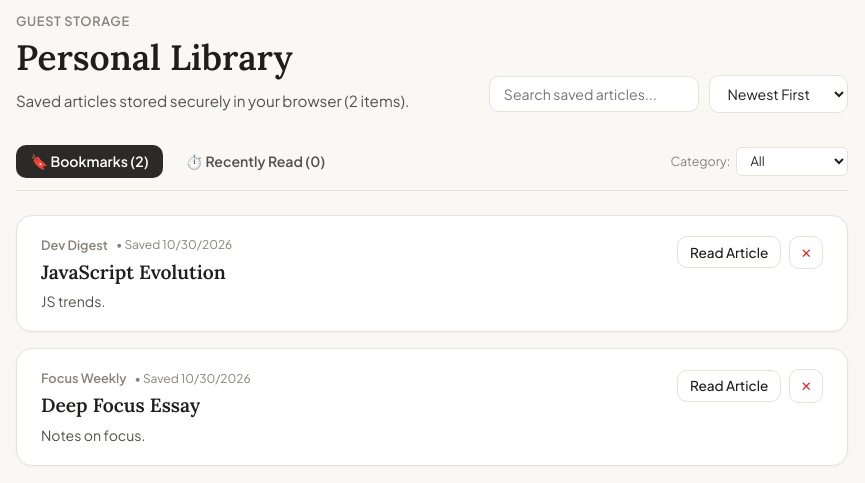
Test: LibraryView › renders saved bookmarks and filters by search query
Expected: the heading "Deep Focus Essay" is shown, [41,393,200,417]
Expected: the heading "JavaScript Evolution" is shown, [41,260,226,284]
# Test search filter
Type "Focus" into the field with placeholder "Search saved articles..." at [594, 94], box [489,76,699,112]
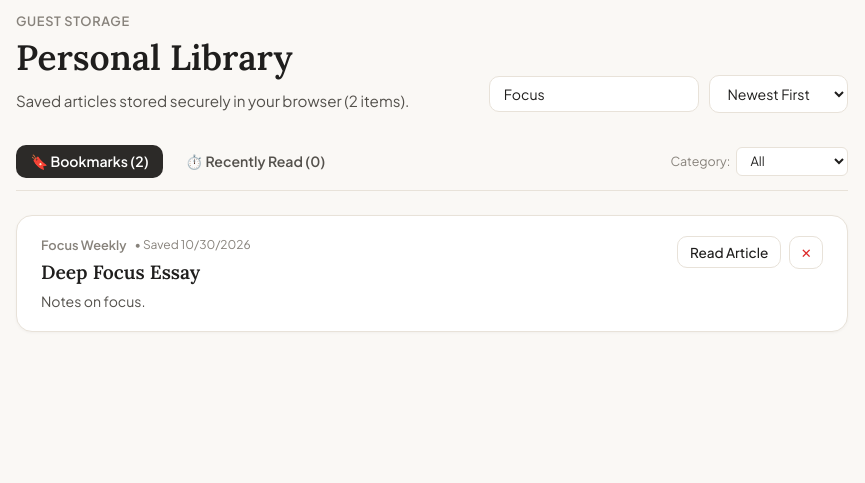
Expected: the heading "Deep Focus Essay" is shown, [41,260,200,284]
Now the heading "JavaScript Evolution" is gone
